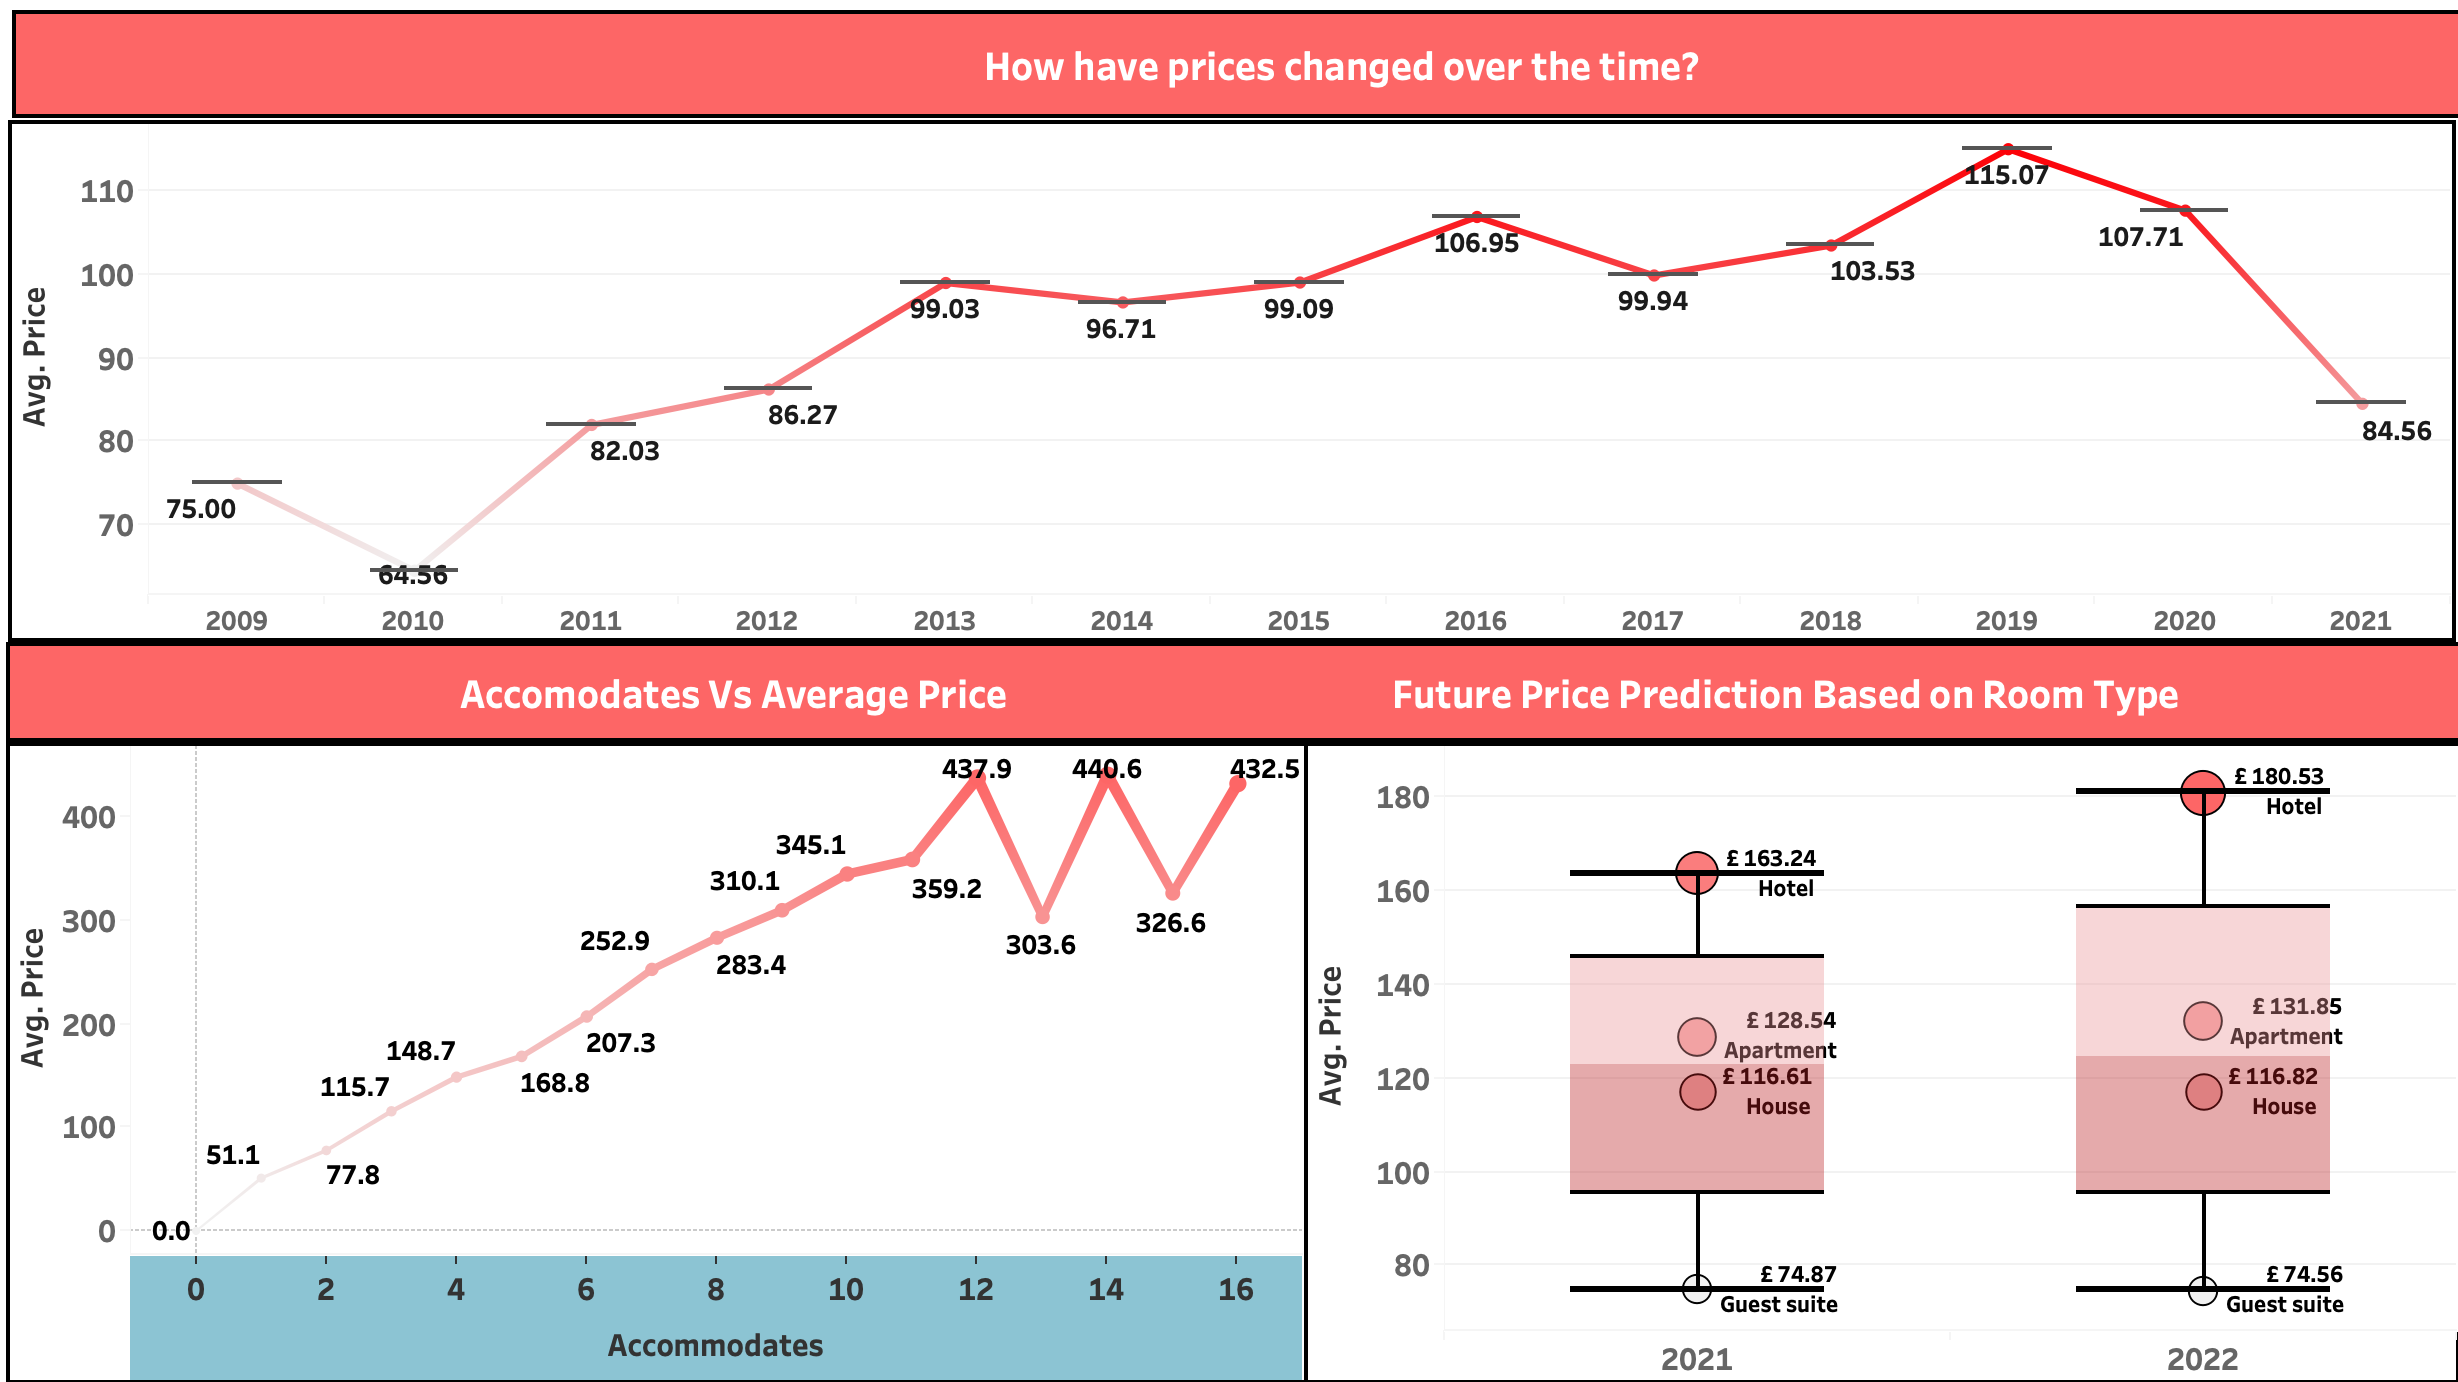

This screenshot's page, from the dashboard's own definition file:
{"tool":"tableau","page":{"name":"Price Analytics","canvas":[1000,1000],"units":"permille","ordinal":4},"visuals":[{"type":"worksheet","box":[0,0,1000,1000]},{"type":"worksheet","param":"horz","box":[6.5,11.6,987,976.8]},{"type":"worksheet","box":[6.5,11.6,987,976.8]},{"type":"worksheet","title":"Price Change Over Time","mark":"Line","rows":["price"],"cols":["first_review"],"box":[3.6,86.3,995.5,378.4]},{"type":"worksheet","box":[2.7,464.8,999.1,71.9]},{"type":"worksheet","title":"Accomodates Vs Avg Price","mark":"Automatic","rows":["price"],"cols":["accommodates"],"box":[2.7,536.7,529,464.8]},{"type":"worksheet","title":"Future Price Prediction","mark":"Circle","rows":["price (calendar.csv)"],"cols":["date (calendar.csv)"],"box":[530.9,536.7,470.1,464.8]}]}

Visuals, with their boxes on the dashboard's canvas, which has no fixed pixel size, in thousandths of its width and height (x1, y1, x2, y2). These are canvas units, not pixel positions in the 2458x1382 screenshot, which may show the page scaled, cropped or inside an application window:
worksheet: <bbox>0, 0, 1000, 1000</bbox>
worksheet: <bbox>6, 12, 994, 988</bbox>
worksheet: <bbox>6, 12, 994, 988</bbox>
"Price Change Over Time" worksheet (Line marks): <bbox>4, 86, 999, 465</bbox>
worksheet: <bbox>3, 465, 1002, 537</bbox>
"Accomodates Vs Avg Price" worksheet: <bbox>3, 537, 532, 1002</bbox>
"Future Price Prediction" worksheet (Circle marks): <bbox>531, 537, 1001, 1002</bbox>
